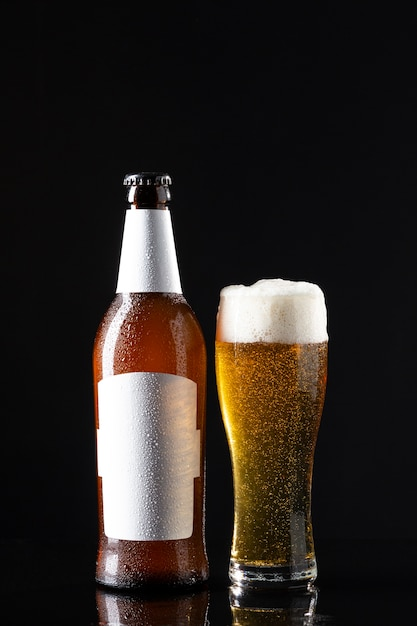alcohol: (93, 173, 209, 595), (213, 277, 330, 597)
